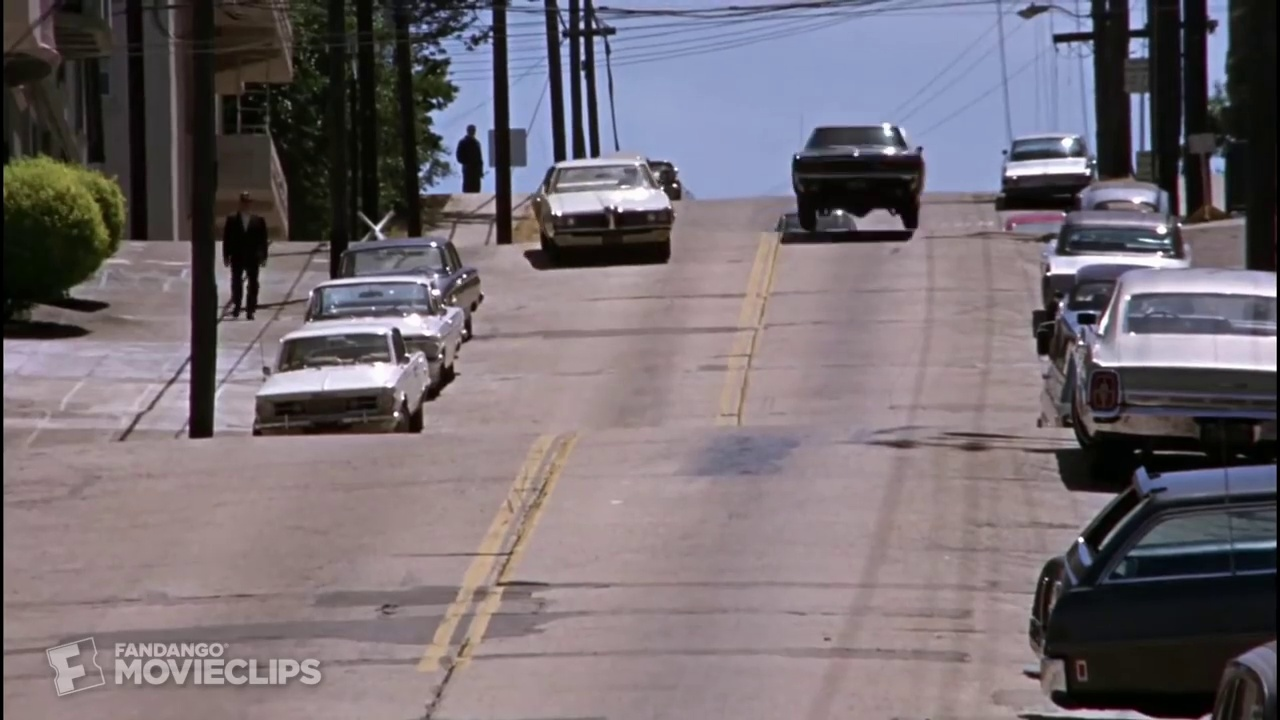car: (1015, 460, 1280, 717), (1056, 267, 1280, 473), (244, 323, 447, 441), (284, 273, 474, 392), (330, 234, 496, 352), (524, 153, 684, 271), (777, 113, 939, 228), (1021, 256, 1186, 355), (1036, 211, 1191, 304), (993, 129, 1109, 208), (1065, 173, 1184, 228), (771, 204, 863, 241)
person: (220, 183, 277, 325), (447, 120, 493, 198)
